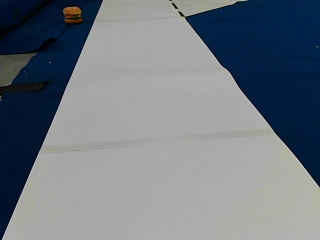burger: (62, 5, 82, 24)
